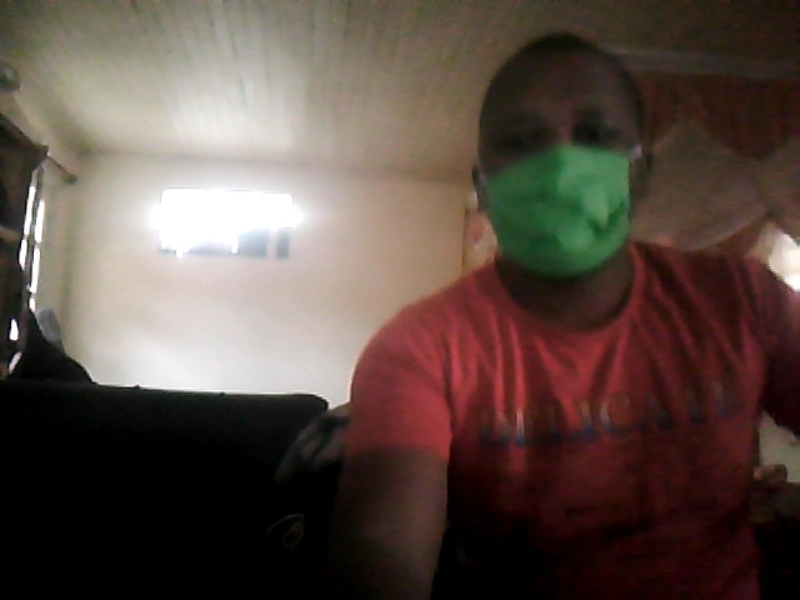ManaoArotava: (446, 25, 682, 291)
